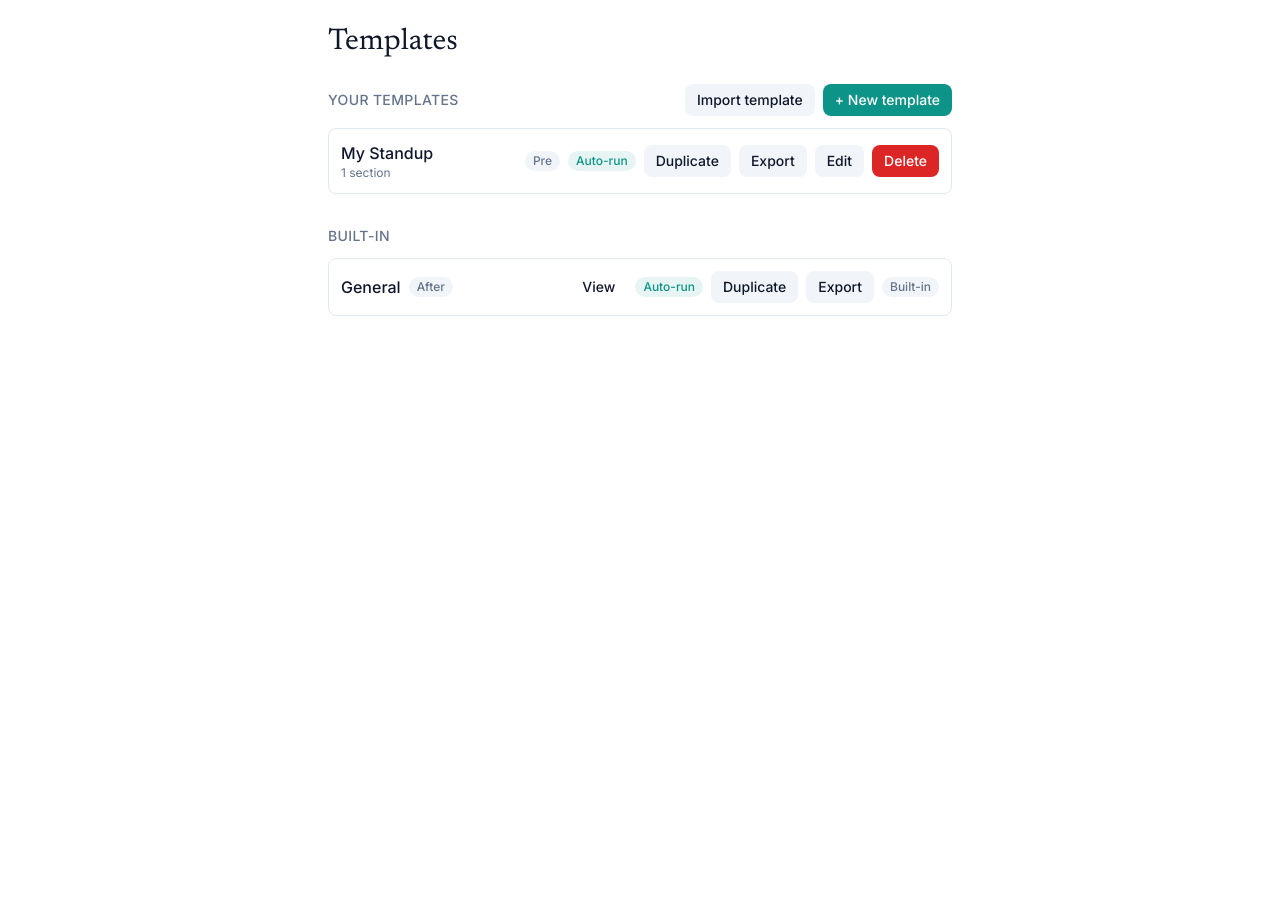
Test case: TemplatesScreen › shows an error toast if duplicate fails
Click the button with aria-label "Duplicate My Standup": (687, 161) [644,145,731,177]
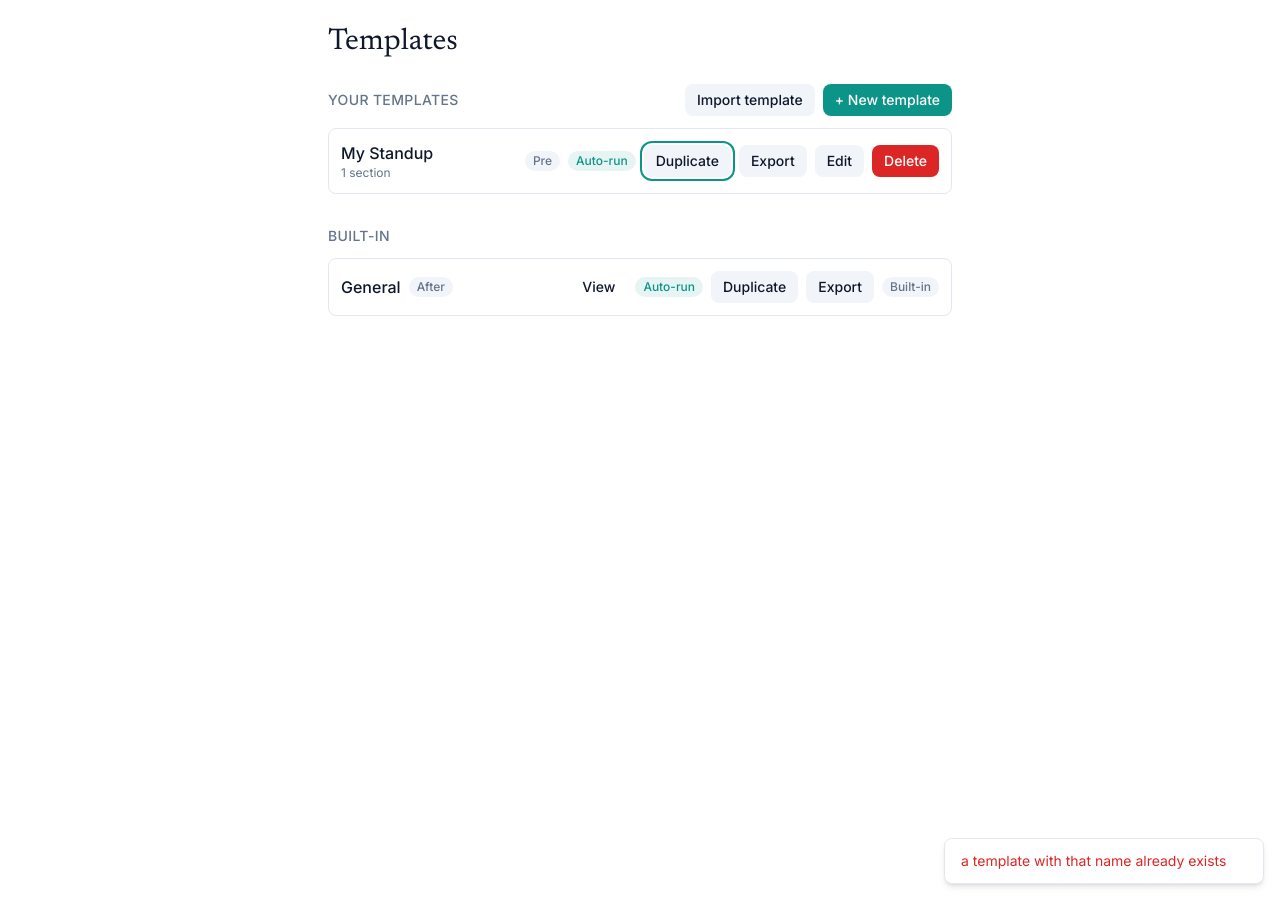
Now the message reads "a template with that name already exists", box [961,852,1226,869]
